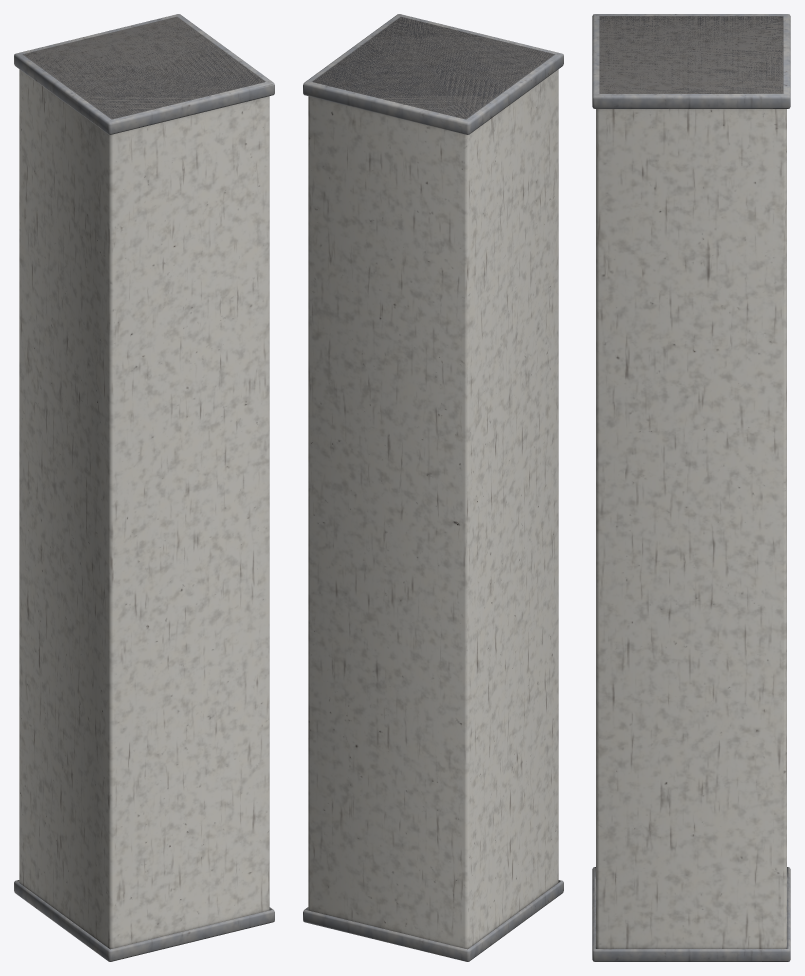
File: pillar_segment.fbx
The picture shows the model from 3 angles, left to right: view 1: azimuth 30°, elevation 25°; view 2: azimuth 150°, elevation 25°; view 3: azimuth 270°, elevation 25°; orthographic projection. The views are drawn at different scales.
Parts seen in each view (by area): view 1: Body; view 2: Body; view 3: Body.
Boxes of the visible parts, bbox=[...] form: Body: bbox=[14, 14, 274, 961]; Body: bbox=[303, 14, 563, 961]; Body: bbox=[592, 14, 790, 961].
Size of the model in its own units: 8.3 by 40 by 8.3.
1 material, 1 textured.
